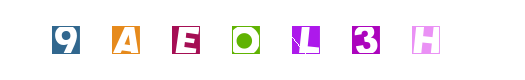3: (294, 0, 374, 80)
9: (25, 0, 105, 80)
A: (88, 0, 168, 80)
E: (146, 0, 226, 80)
H: (335, 0, 415, 80)
L: (223, 0, 303, 80)
O: (206, 0, 286, 80)
